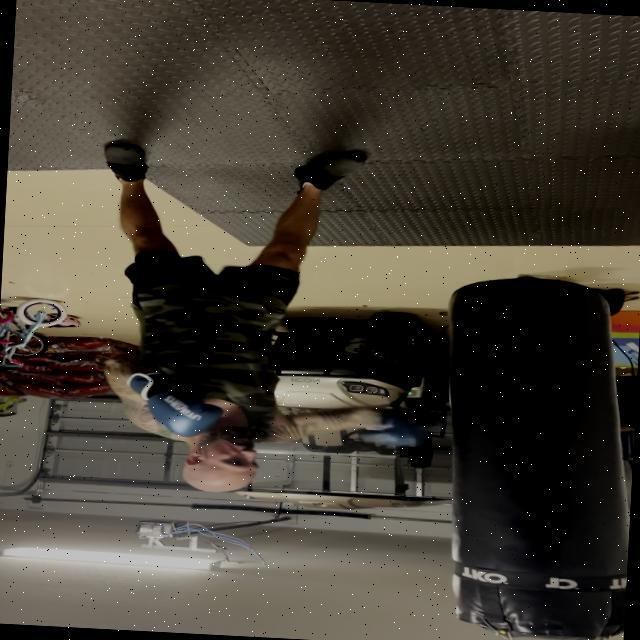bag: (441, 264, 624, 640)
jab: (90, 337, 462, 518)
